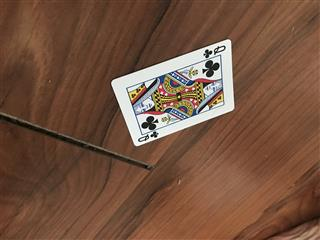QueenOfClubs: (108, 37, 235, 146)
